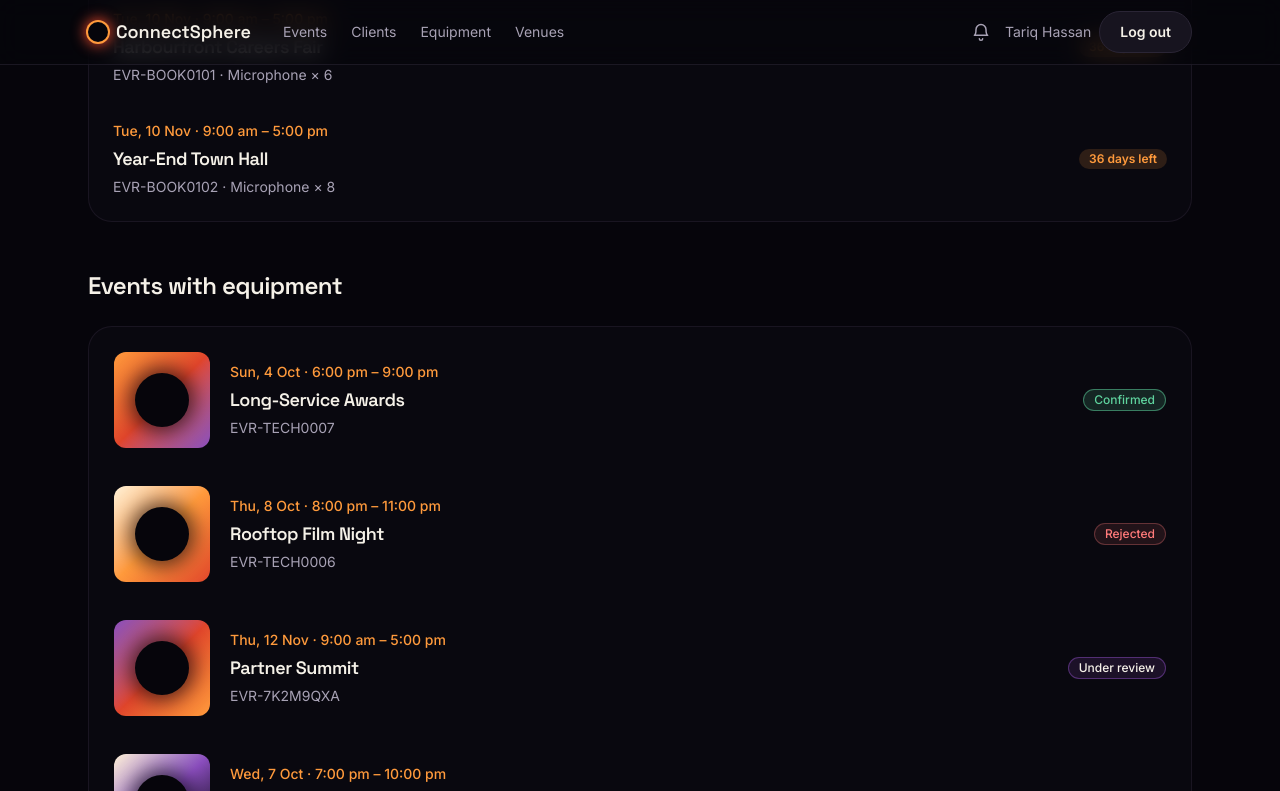
Test: SCRUM-24 AC5 Staff home: the events with equipment, for Technical Support › shows the record of the event a row opens
(page scrolled)
Click the link "Long-Service Awards" at (162, 400), box [97,335,1183,465]
(page scrolled)
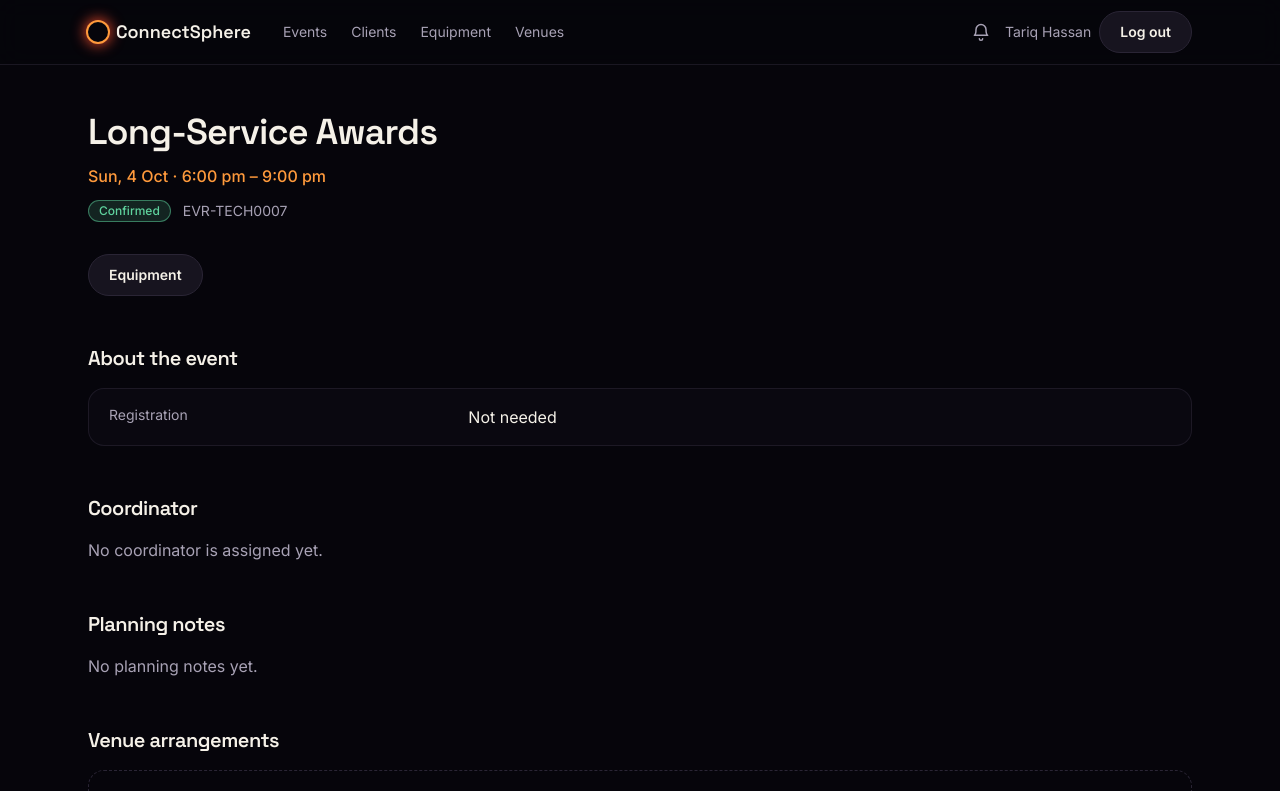
Expected: the heading "Long-Service Awards" is shown, [88,109,437,155]
